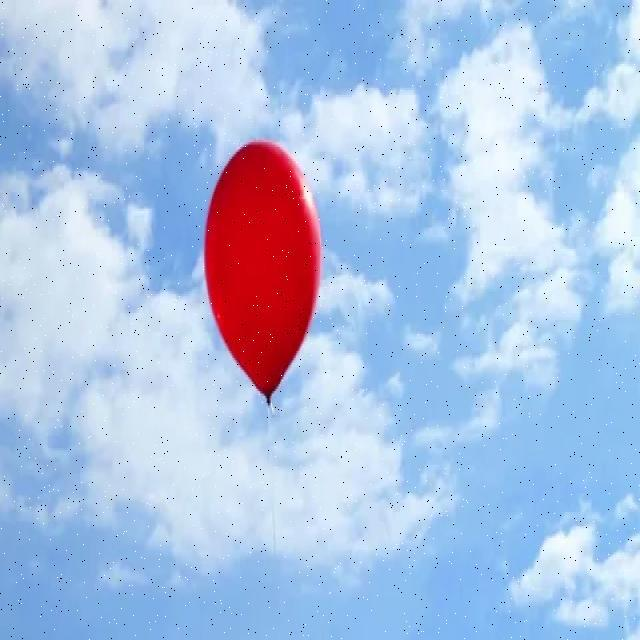red: (202, 138, 321, 406)
